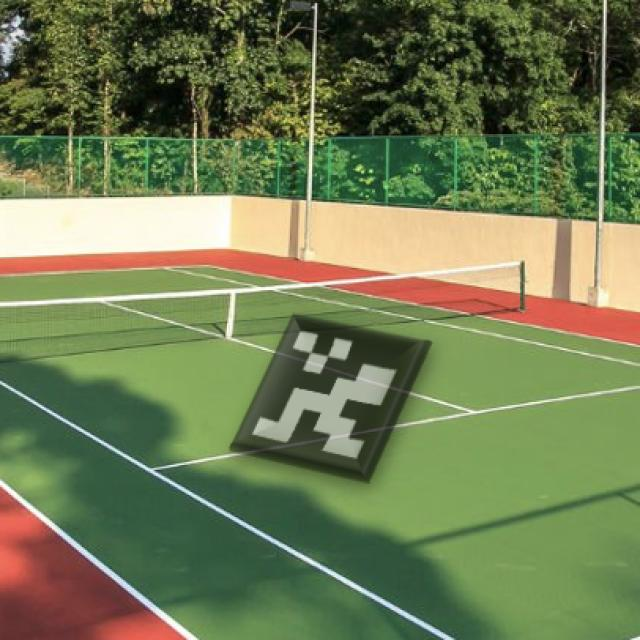marker: (221, 307, 442, 492)
